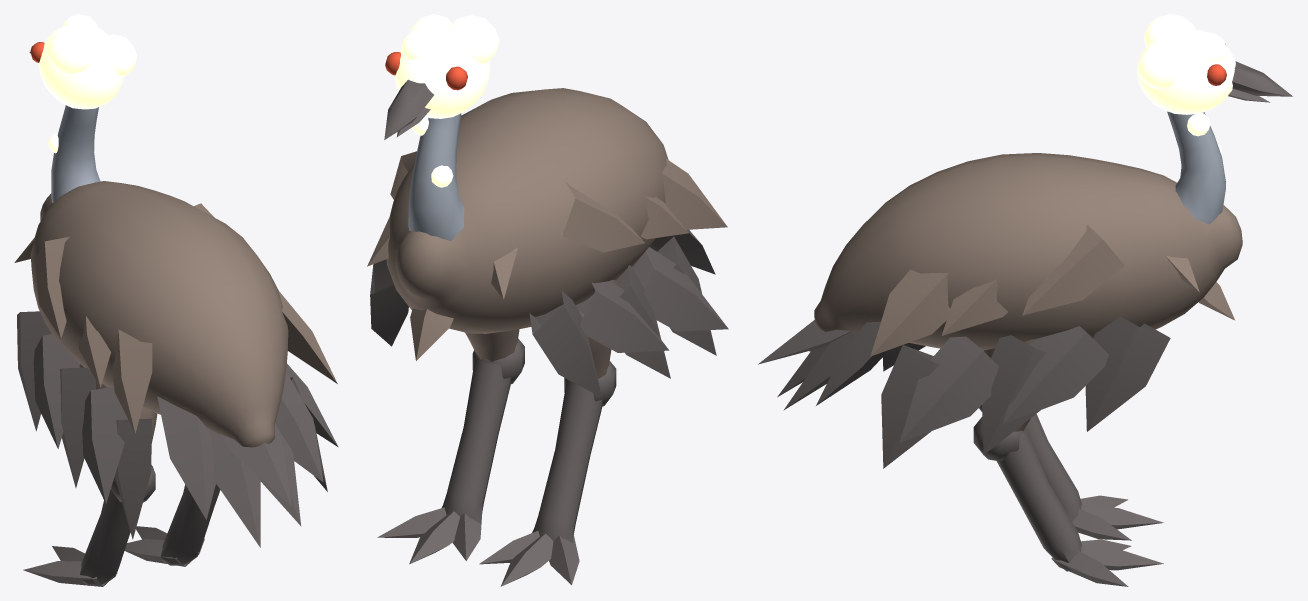
The model's file is Emu.glb.
The picture shows the model from 3 angles, left to right: view 1: azimuth 30°, elevation 25°; view 2: azimuth 150°, elevation 25°; view 3: azimuth 270°, elevation 25°; orthographic projection. The views are drawn at different scales.
Visible parts, largest first — view 1: Body, Head, LegL, LegR; view 2: Body, Head, LegR, LegL; view 3: Body, Head, LegR, LegL.
Boxes of the visible parts, x1,y1,x2,y2 form: Body: [14, 181, 338, 547]; Head: [29, 14, 137, 202]; LegL: [23, 465, 155, 586]; LegR: [124, 484, 220, 566]; Body: [367, 88, 728, 397]; Head: [384, 14, 499, 240]; LegR: [377, 338, 524, 564]; LegL: [479, 361, 616, 586]; Body: [758, 153, 1242, 468]; Head: [1137, 14, 1292, 224]; LegR: [973, 417, 1163, 586]; LegL: [979, 405, 1163, 540].
Size of the model in its own units: 0.85 by 1.79 by 1.66.
